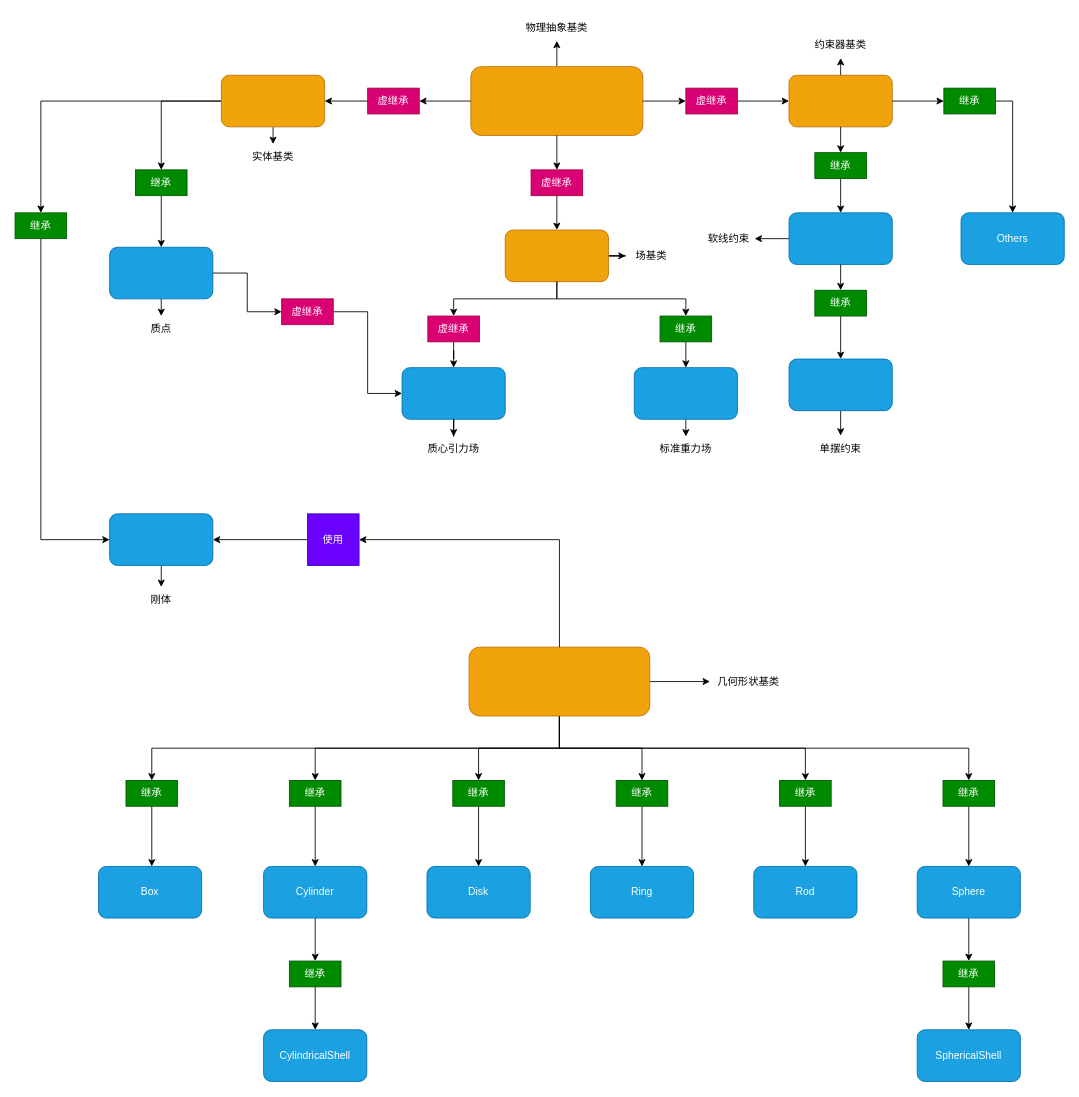
The diagram is 1079 pixels wide and 1097 high, and some of its shapes have lost their labels. The shapes that lost their labels are listed below. From the top down, each one's box as (x1, y1, x2, y2) in pixels, then its label:
(221, 74, 325, 127): PhysicalEntity
(470, 66, 643, 135): PhysicsAbstract
(788, 74, 892, 127): ConstraintBase
(504, 229, 608, 282): FieldBase
(788, 212, 892, 264): ConnectingLine
(109, 246, 213, 299): Particle
(401, 367, 505, 419): GravitateField
(633, 367, 737, 419): GravityField
(788, 358, 892, 411): SimplePendulum
(109, 513, 213, 565): RigidBody
(468, 646, 650, 716): ShapeBase
